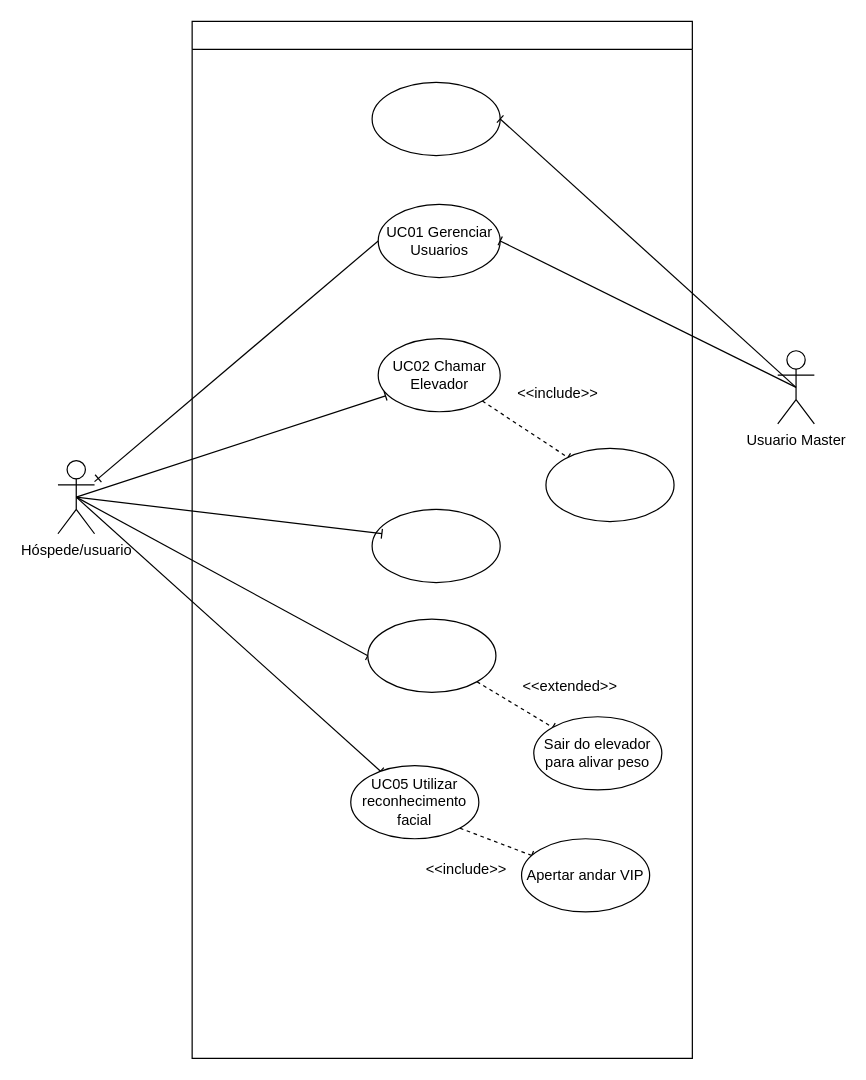
Image size: 866x1080. Some labels were removed from this diagram. The shapes that lost their labels are listed below. From the top down, each one's centre as x and y in pixels, then its label:
pixel 435 118: UC06 Visualizar ultimo login de usuarios
pixel 609 484: Selecionar Andar no Display Interno
pixel 435 545: UC03 Identificar alerta de incendio
pixel 431 655: UC04 Identificar alerta de sobrecarga
